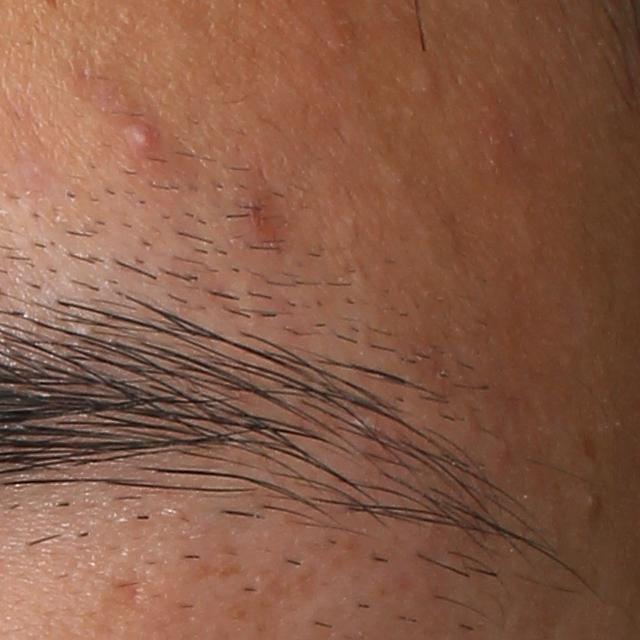comedo: (412, 63, 443, 107), (580, 485, 607, 517)
papule: (123, 117, 162, 160)
